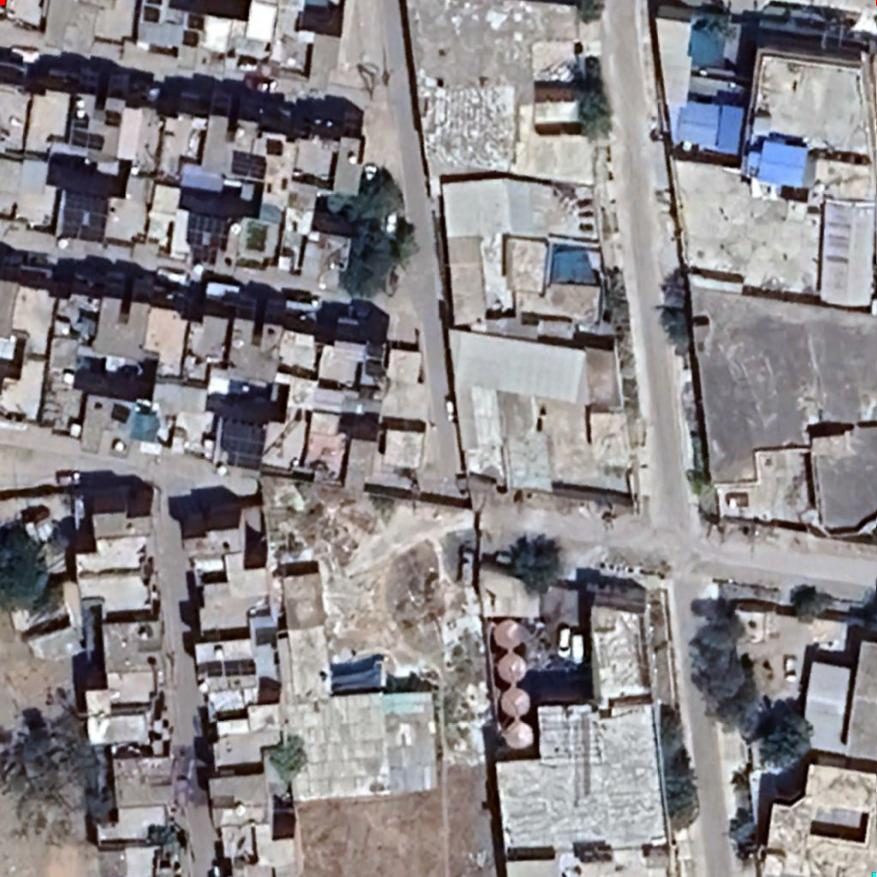Solarpanel: (214, 416, 266, 471), (58, 190, 110, 244), (183, 212, 231, 252), (228, 154, 268, 181), (69, 128, 103, 155)
